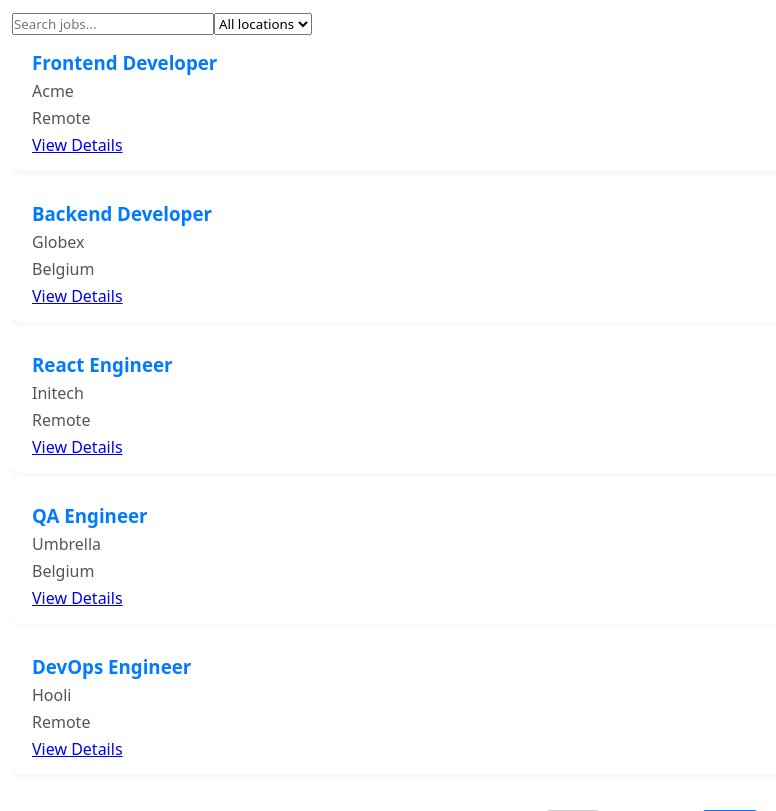
JobList › filters the jobs by location
The image size is (776, 811).
expect the heading "Frontend Developer" is shown: met, box [32,50,217,75]
Select "Belgium" in the dropdown: (263, 24) [214,13,312,35]
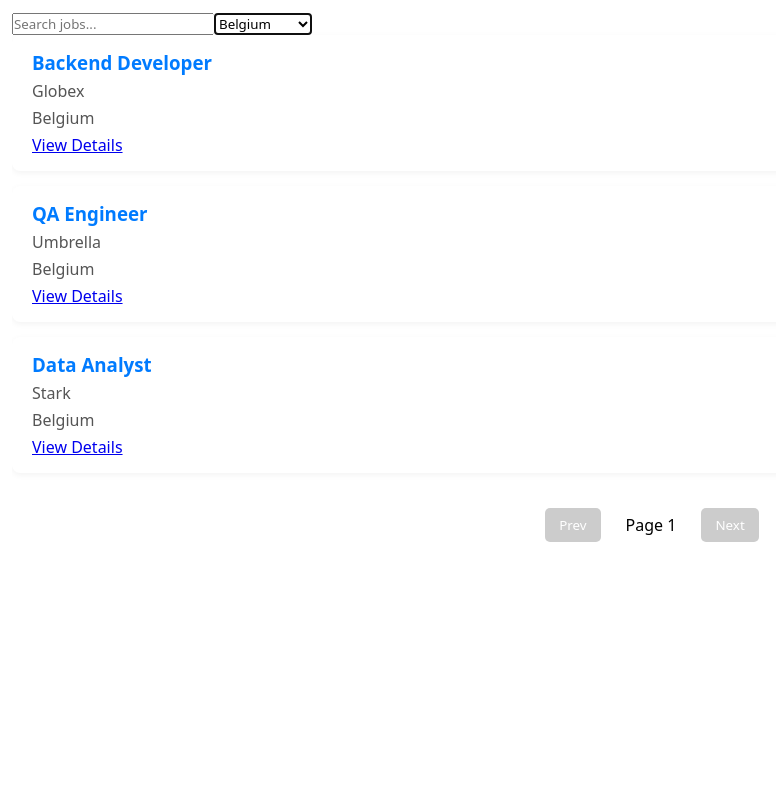
expect the heading "Backend Developer" is shown: met, box [32,50,212,75]
expect the heading "Frontend Developer" is gone: met
expect the heading "Data Analyst" is shown: met, box [32,352,152,377]
